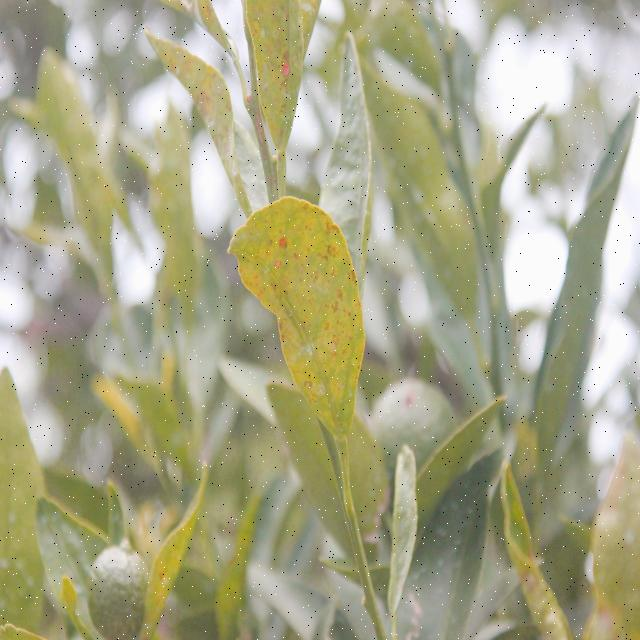canker: (253, 197, 367, 408), (240, 0, 305, 150), (170, 52, 240, 144)
